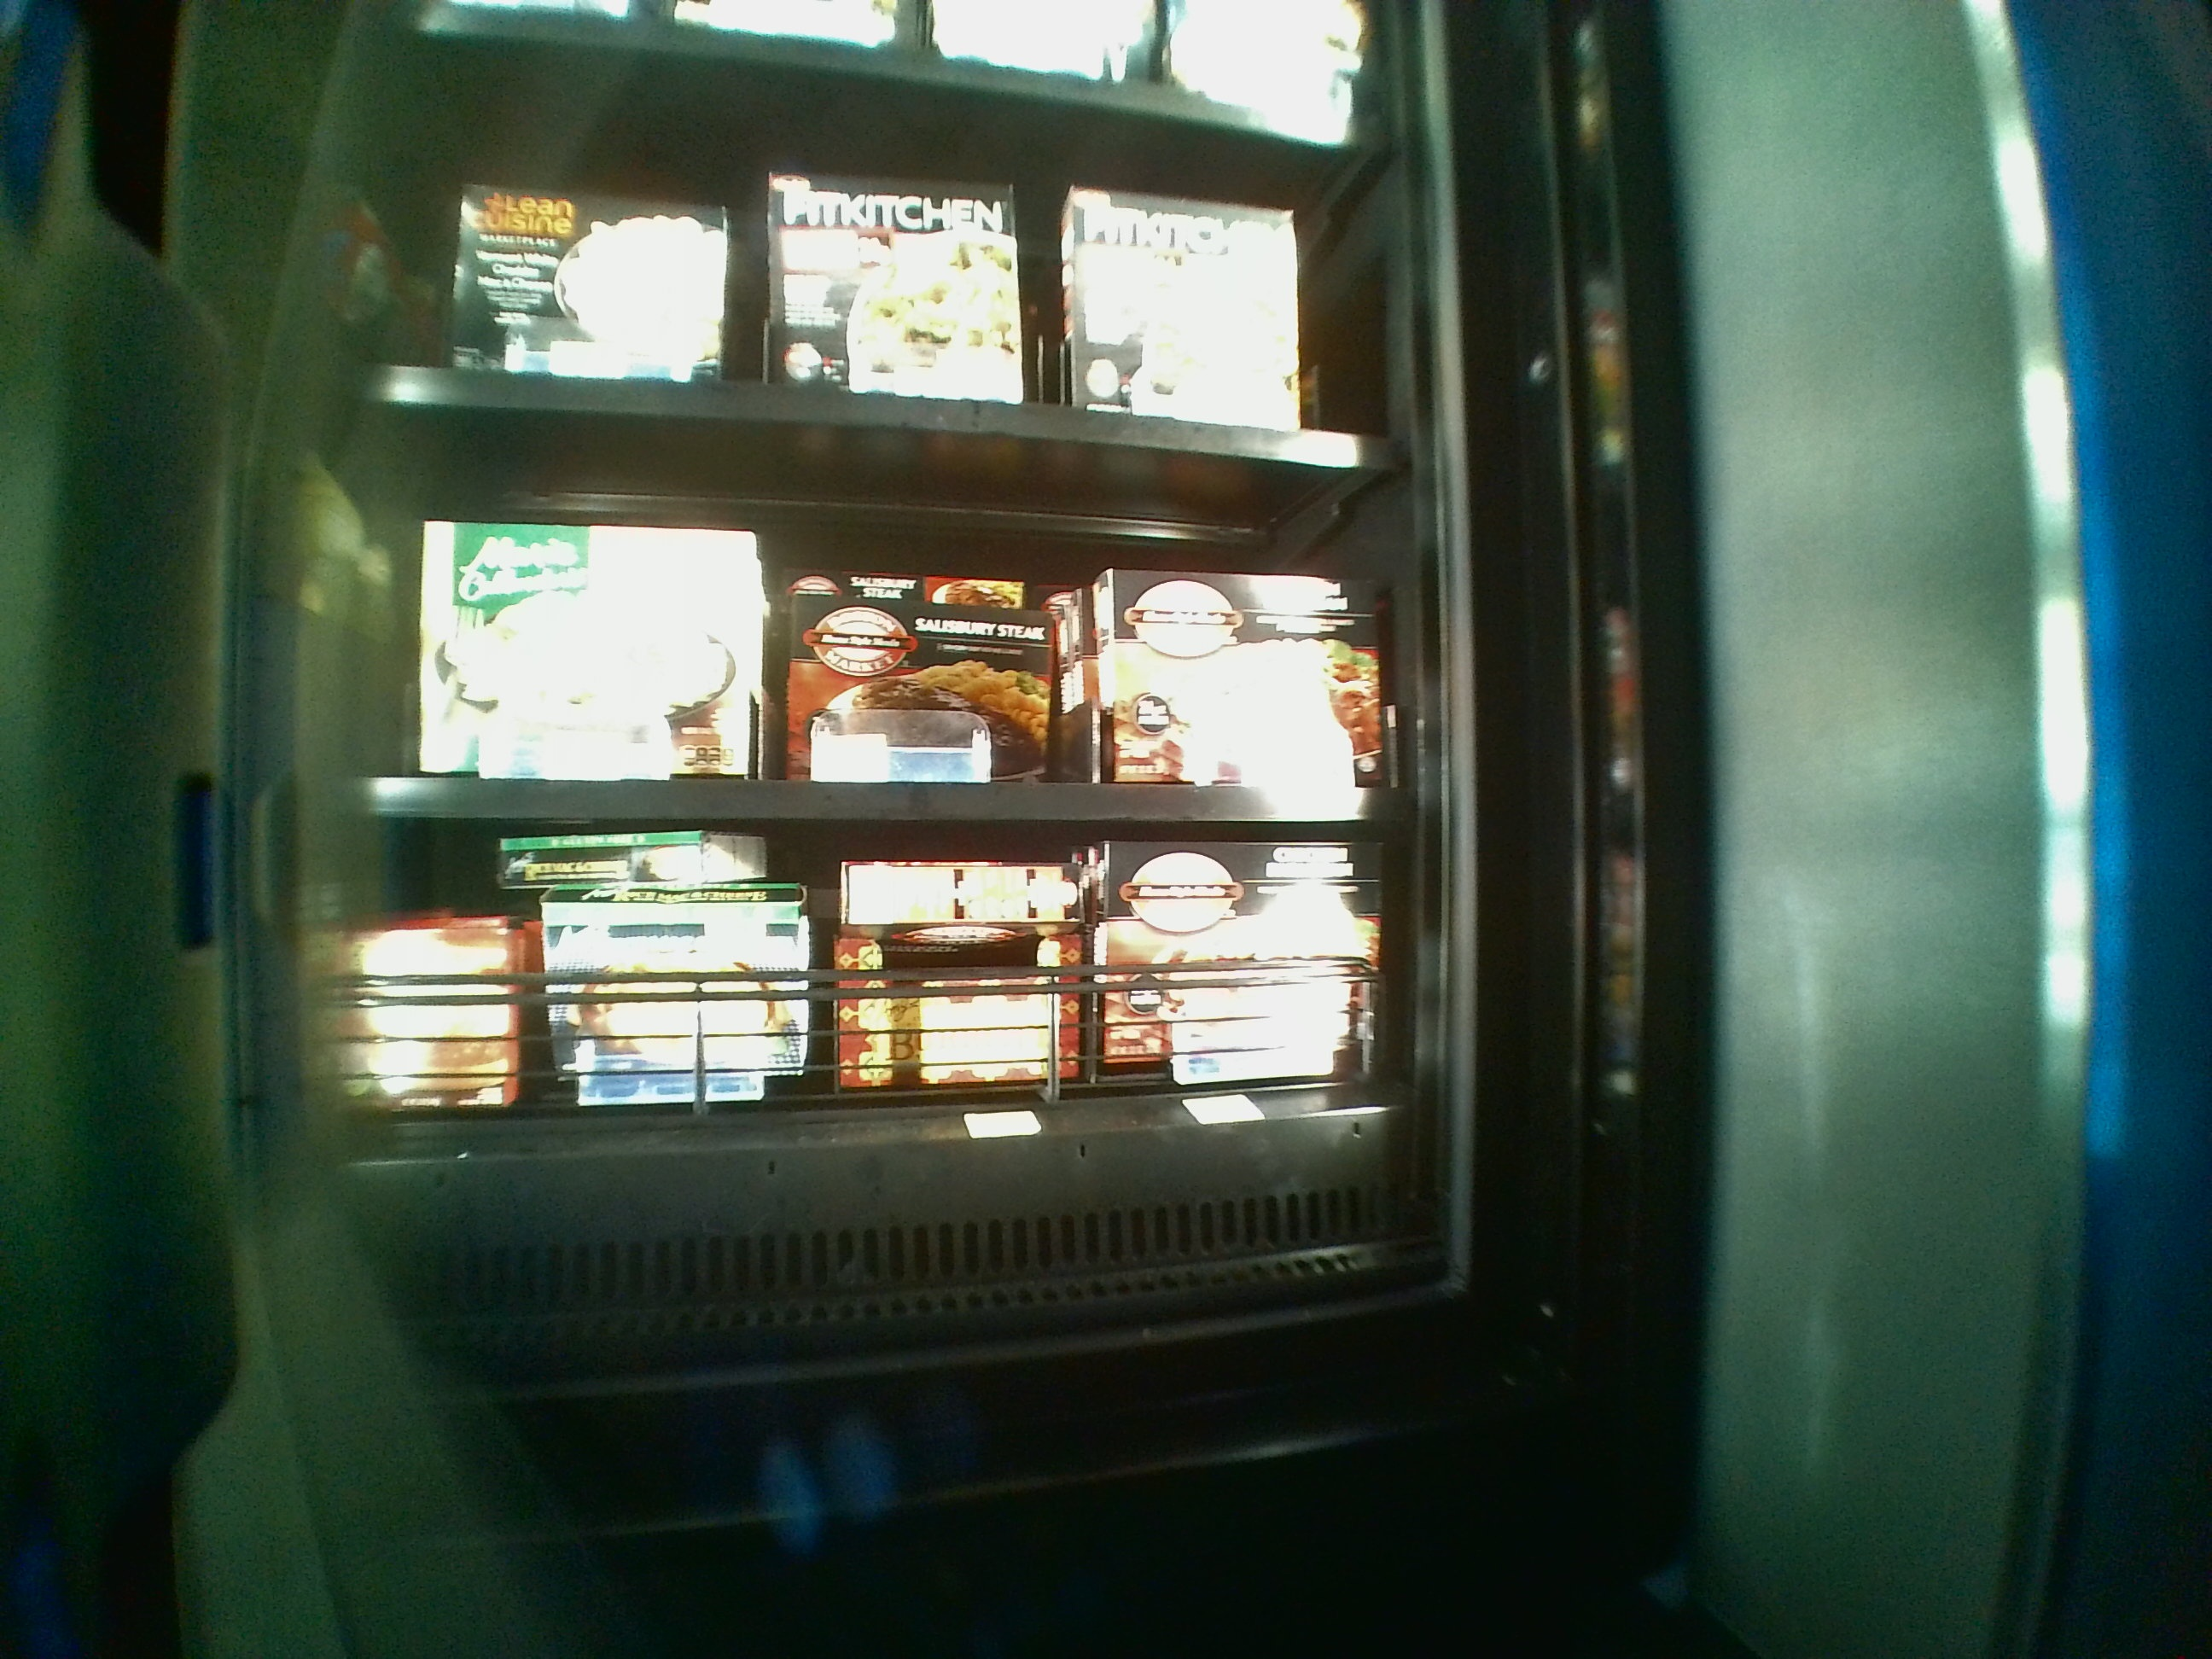shelf: (334, 403, 1395, 817), (334, 829, 1400, 1162)
